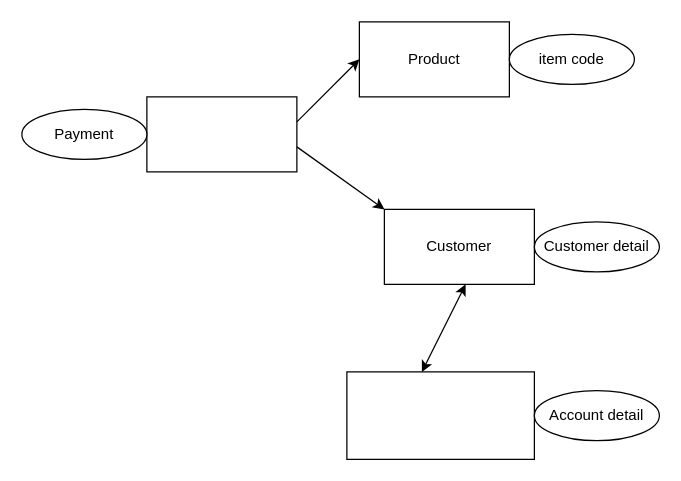
The diagram is 681 pixels wide and 481 high, and some of its shapes have lost their labels. Each missing label, with the centre of its shape:
Account: (440,415)
Order: (221,134)
